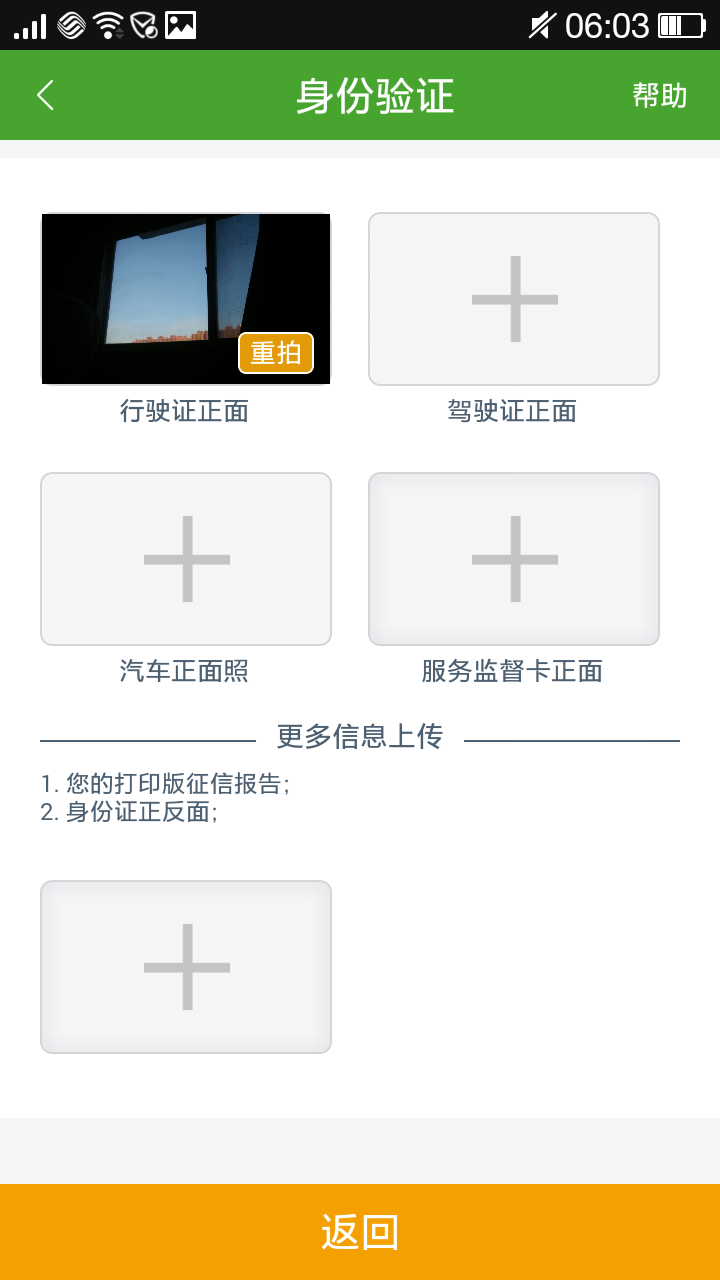button: (1, 1183, 720, 1280), (612, 67, 708, 121), (235, 327, 317, 379)
imgbutton: (458, 248, 575, 352), (20, 57, 78, 119)
imgview: (33, 203, 340, 391)
textview: (32, 761, 306, 831)
